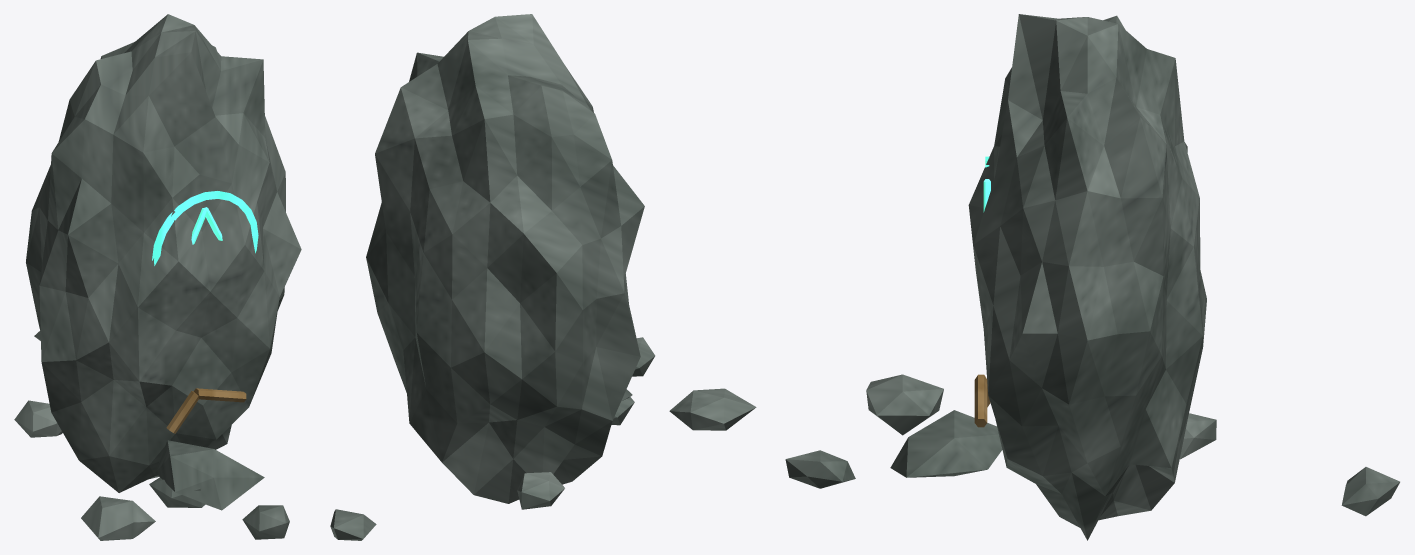
The model's file is 0672_waystone_22.glb.
3 views of the same model, side by side, from view 1: azimuth 30°, elevation 25°; view 2: azimuth 150°, elevation 25°; view 3: azimuth 270°, elevation 25° (orthographic). The views are drawn at different scales.
Parts seen in each view (by area): view 1: stone, glow, brass; view 2: stone; view 3: stone, brass.
Boxes of the visible parts, <box> form: stone: <box>14,14,301,540</box>; glow: <box>152,191,258,265</box>; brass: <box>166,388,246,433</box>; stone: <box>330,14,756,540</box>; stone: <box>785,14,1399,540</box>; brass: <box>974,374,990,427</box>.
Bounding box in the file's own units: 1.19 × 1.83 × 1.96.
3 materials, 3 textured.
